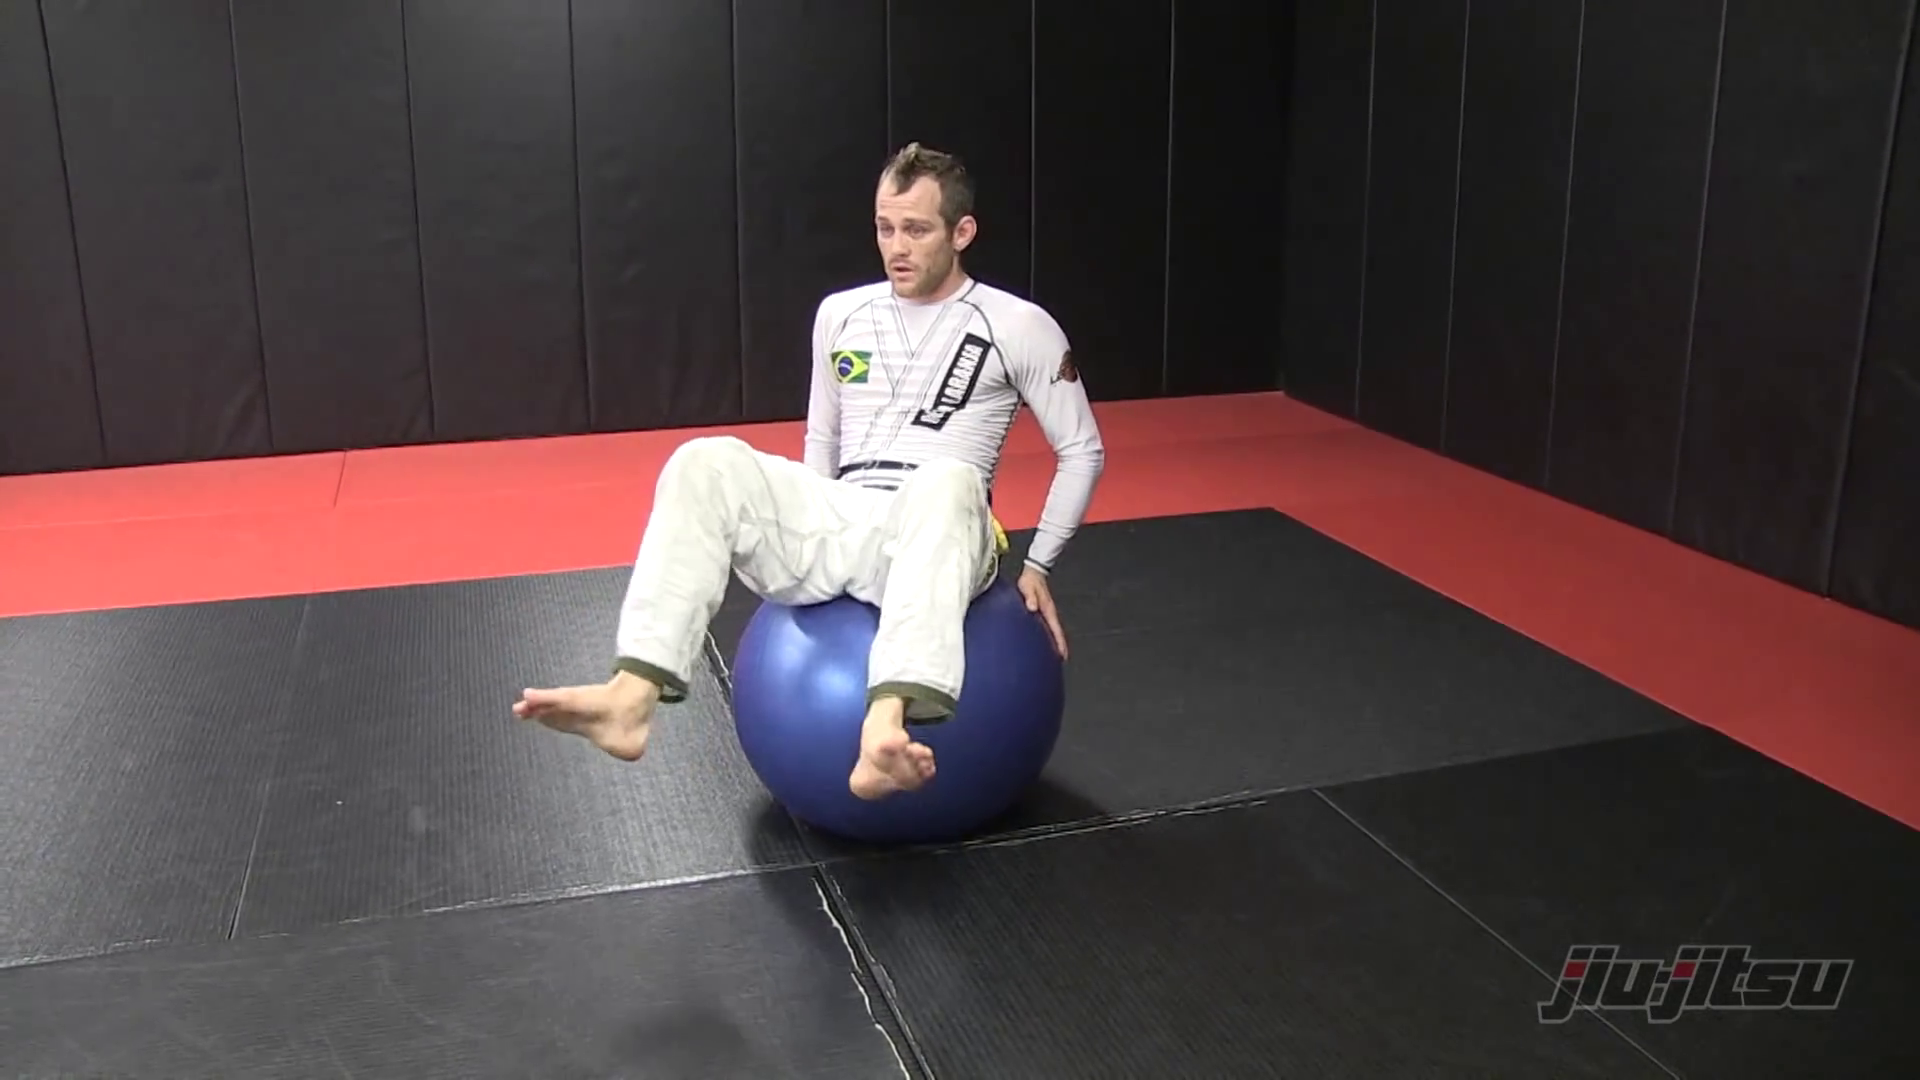yogaball: (724, 556, 1076, 855)
